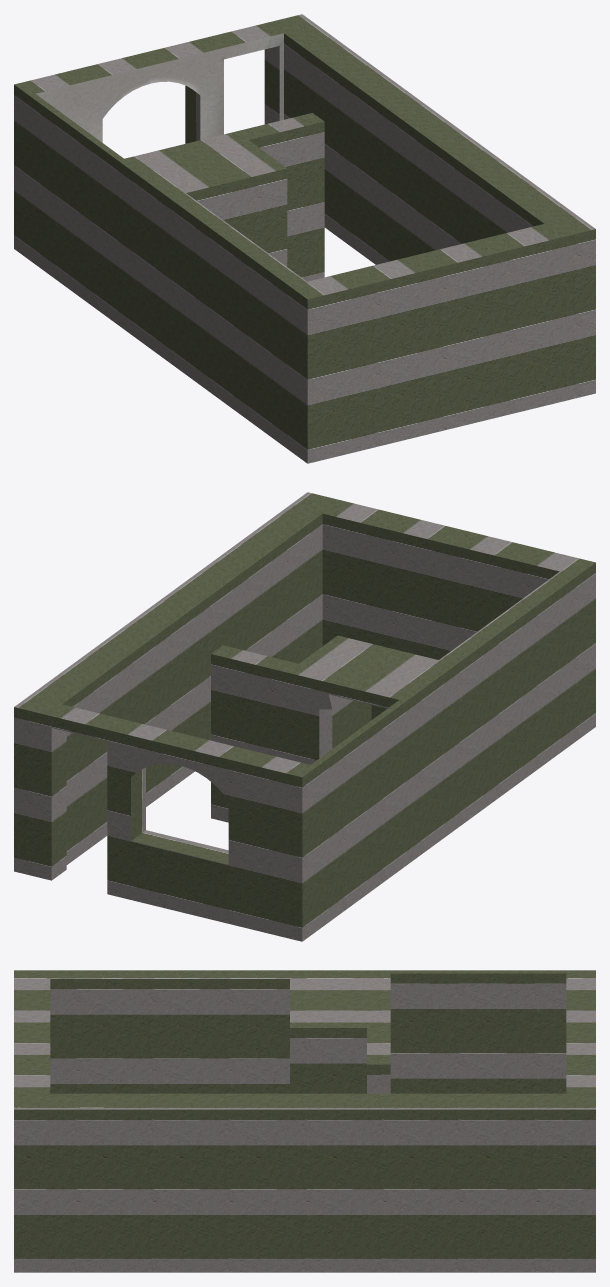
File: ApothecaryShopWalls.fbx
3 views of the same model, one above another, from view 1: azimuth 30°, elevation 25°; view 2: azimuth 150°, elevation 25°; view 3: azimuth 270°, elevation 25° (orthographic).
Parts seen in each view (by area): view 1: OuterShell; view 2: OuterShell; view 3: OuterShell.
Boxes of the visible parts, bbox=[...] form: OuterShell: bbox=[14, 14, 595, 463]; OuterShell: bbox=[14, 492, 595, 941]; OuterShell: bbox=[14, 970, 595, 1272].
Size of the model in its own units: 3.86 by 2.1 by 6.8.
